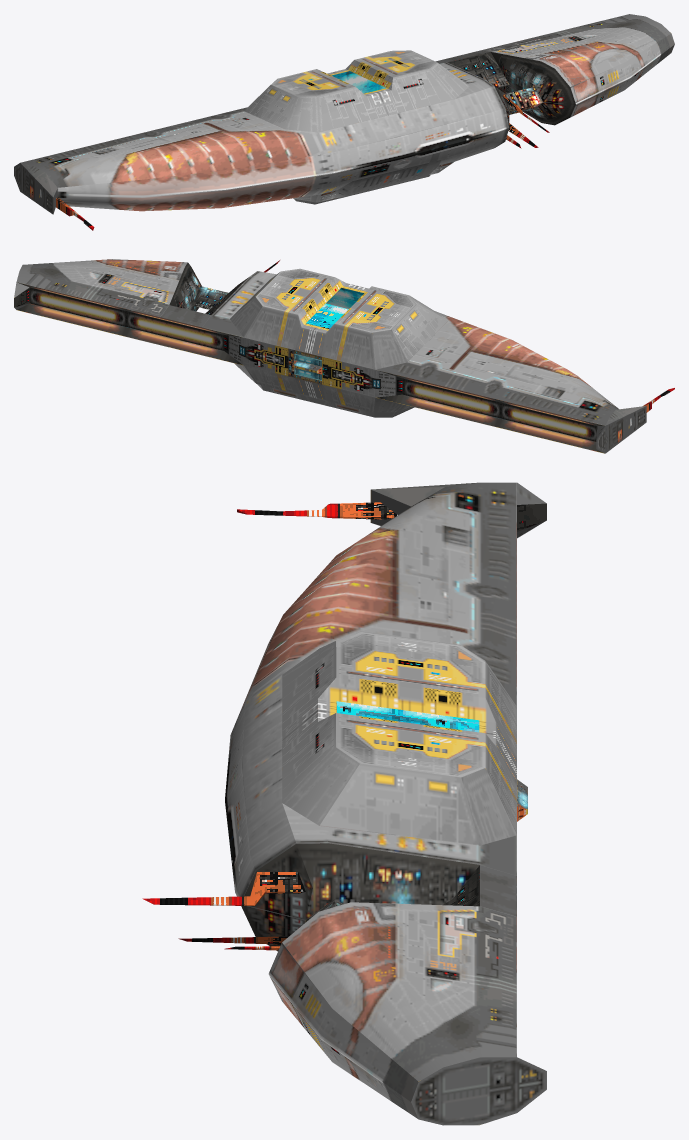
Rendered from mothership.FBX.
3 renders of one model, top to bottom at view 1: azimuth 30°, elevation 25°; view 2: azimuth 150°, elevation 25°; view 3: azimuth 270°, elevation 25°, orthographic. The views are drawn at different scales.
Visible parts, largest first — view 1: Mothership; view 2: Mothership, Hangardoor; view 3: Mothership.
Part boxes in pixels (x1,y1,x2,y2): Mothership: [14, 14, 674, 230]; Mothership: [14, 259, 674, 453]; Hangardoor: [257, 384, 414, 417]; Mothership: [142, 482, 546, 1125].
Bounding box in the file's own units: 7015 × 1156 × 2015.
Materials: 15 (15 with a texture image).
